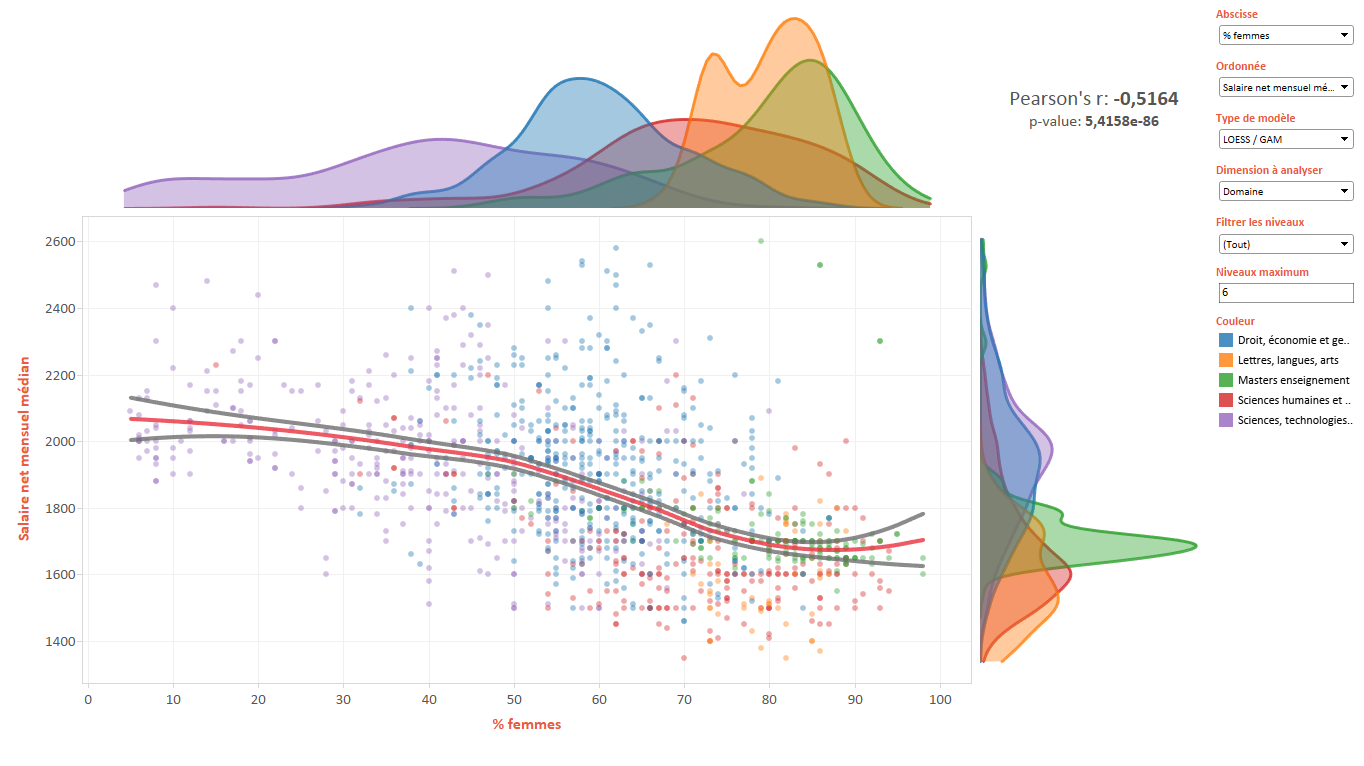

The page's visual inventory and layout, read from the dashboard file:
{"tool":"tableau","page":{"name":"Nuage de points et densité marginale","canvas":[1000,1000],"units":"permille","ordinal":0},"visuals":[{"type":"worksheet","title":"Densité X","mark":"Automatic","box":[0,0,762.9,277.8]},{"type":"blank","box":[762.9,0,157.5,277.8]},{"type":"parameter","param":"[Parameters].[Paramètre 1]","box":[920.3,0,79.7,57]},{"type":"parameter","param":"[Parameters].[Abscisse (copie)]","box":[920.3,57,79.7,53]},{"type":"parameter","param":"[Parameters].[Paramètre 4]","box":[920.3,110,79.7,53]},{"type":"parameter","param":"[Parameters].[Paramètre 2]","box":[920.3,162.9,79.7,53]},{"type":"filter","title":"Nuage de points","param":"[textscan.033rnfa0qr6jju119agoc1gq4wqi].[none:Calculation_673851157567737861:nk]","box":[920.3,215.9,79.7,50.9]},{"type":"parameter","param":"[Parameters].[Paramètre 3]","box":[920.3,266.8,79.7,49.9]},{"type":"worksheet","title":"Nuage de points","mark":"Circle","rows":["Calculation_673851157565718530"],"cols":["Calculation_673851157565521921"],"box":[0,277.8,762.9,722.2]},{"type":"worksheet","title":"Densité Y","mark":"Line","rows":["DensX X (copie)"],"cols":["DensX line (copie)","DensX poly (copie)"],"box":[762.9,277.8,157.5,722.2]},{"type":"legend","title":"Densité X","param":"[textscan.033rnfa0qr6jju119agoc1gq4wqi].[none:Calculation_673851157571534857:nk]","box":[920.3,316.7,79.7,126.3]}]}

Visuals, with their boxes on the dashboard's canvas, which has no fixed pixel size, in thousandths of its width and height (x1, y1, x2, y2). These are canvas units, not pixel positions in the 1364x766 screenshot, which may show the page scaled, cropped or inside an application window:
"Densité X" worksheet: locate(0, 0, 763, 278)
blank: locate(763, 0, 920, 278)
parameter: locate(920, 0, 1000, 57)
parameter: locate(920, 57, 1000, 110)
parameter: locate(920, 110, 1000, 163)
parameter: locate(920, 163, 1000, 216)
"Nuage de points" filter: locate(920, 216, 1000, 267)
parameter: locate(920, 267, 1000, 317)
"Nuage de points" worksheet (Circle marks): locate(0, 278, 763, 1000)
"Densité Y" worksheet (Line marks): locate(763, 278, 920, 1000)
"Densité X" legend: locate(920, 317, 1000, 443)
